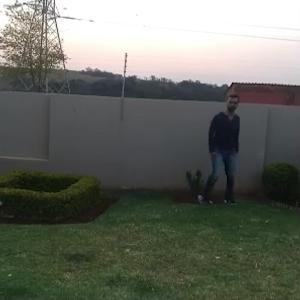follow: (197, 92, 246, 204)
